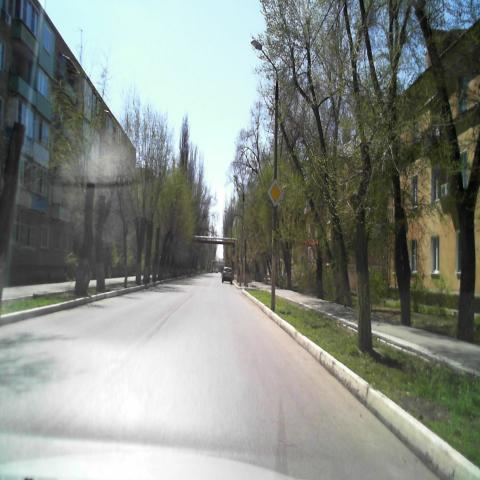2_1: (267, 178, 283, 210)
